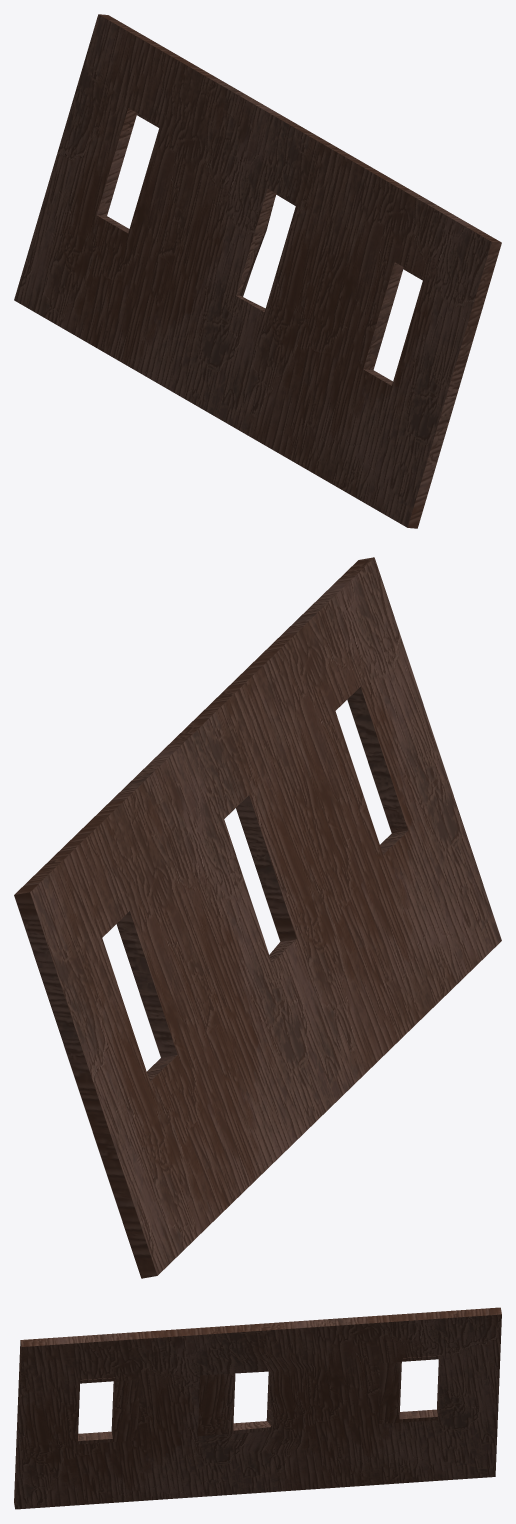
The model's file is barricadelong.fbx.
The picture shows the model from 3 angles, top to bottom: view 1: azimuth 30°, elevation 25°; view 2: azimuth 150°, elevation 25°; view 3: azimuth 270°, elevation 25°; orthographic projection. The views are drawn at different scales.
Parts seen in each view (by area): view 1: Large_Barricade1:LargeBarricade; view 2: Large_Barricade1:LargeBarricade; view 3: Large_Barricade1:LargeBarricade.
Part boxes in pixels (<box>): Large_Barricade1:LargeBarricade: <box>14,14,501,528</box>; Large_Barricade1:LargeBarricade: <box>14,557,501,1278</box>; Large_Barricade1:LargeBarricade: <box>14,1307,501,1509</box>.
Bounding box in the file's own units: 87.77 × 135 × 292.
Materials: 1 (1 with a texture image).
